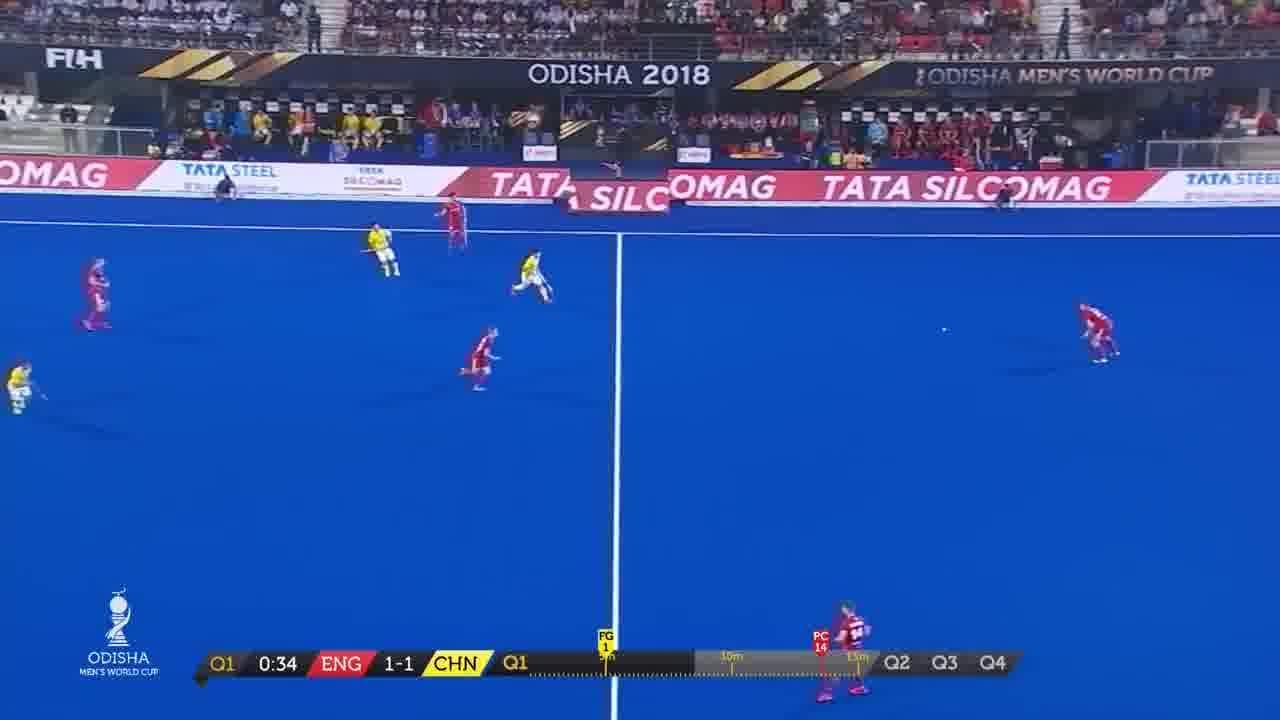ball: (938, 325, 949, 335)
